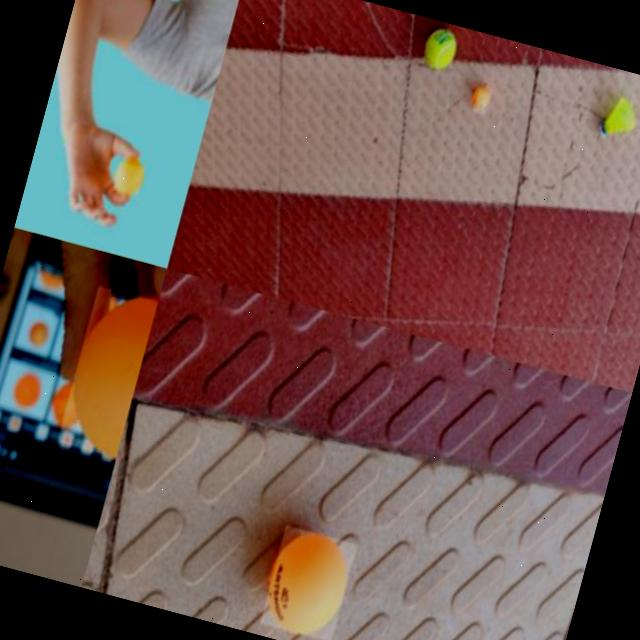ping-pong-ball: (54, 281, 158, 460), (258, 523, 357, 640), (112, 160, 145, 196), (472, 88, 491, 115)
